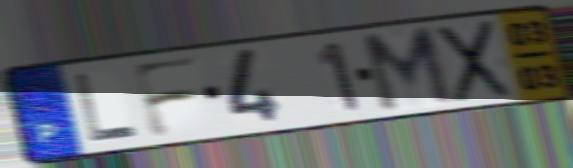1: (315, 38, 364, 114)
4: (224, 46, 291, 130)
F: (128, 54, 203, 142)
L: (71, 71, 142, 145)
M: (357, 22, 458, 116)
X: (434, 16, 515, 107)
